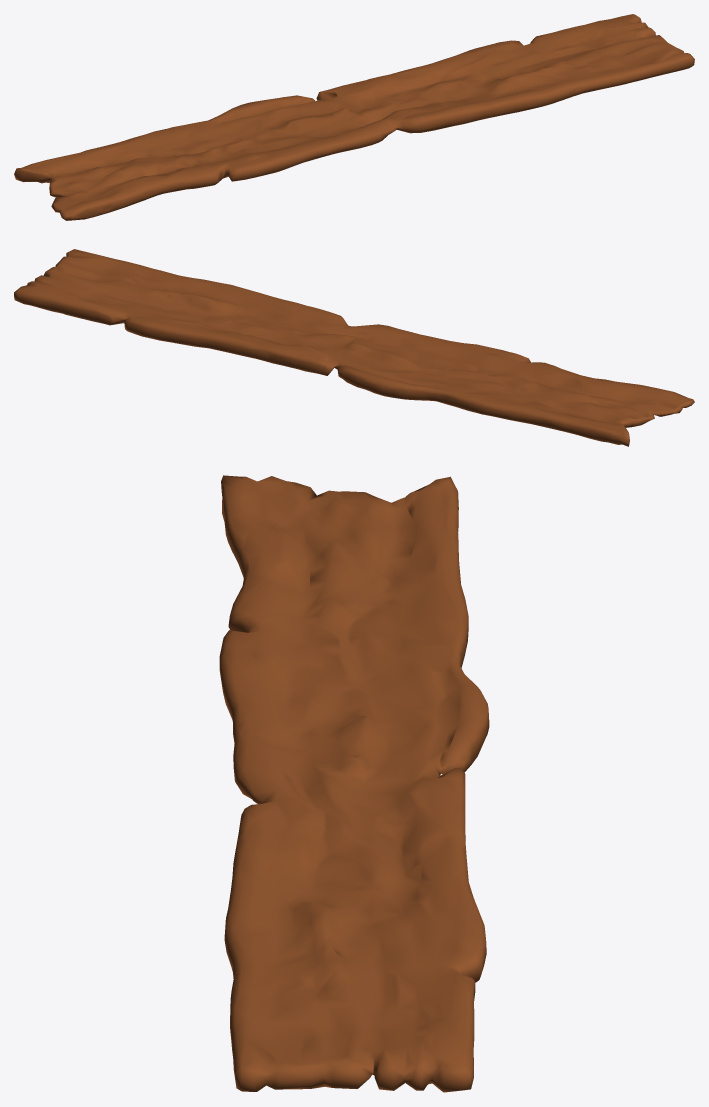
The model's file is Plank2.fbx.
3 views of the same model, one above another, from view 1: azimuth 30°, elevation 25°; view 2: azimuth 150°, elevation 25°; view 3: azimuth 270°, elevation 25° (orthographic). The views are drawn at different scales.
Parts seen in each view (by area): view 1: Cube; view 2: Cube; view 3: Cube.
Boxes of the visible parts, box(x1,y1,x2,y2) form: Cube: box(14, 14, 694, 220); Cube: box(14, 249, 694, 446); Cube: box(219, 475, 489, 1092).
Size of the model in its own units: 1204 by 32.83 by 227.
